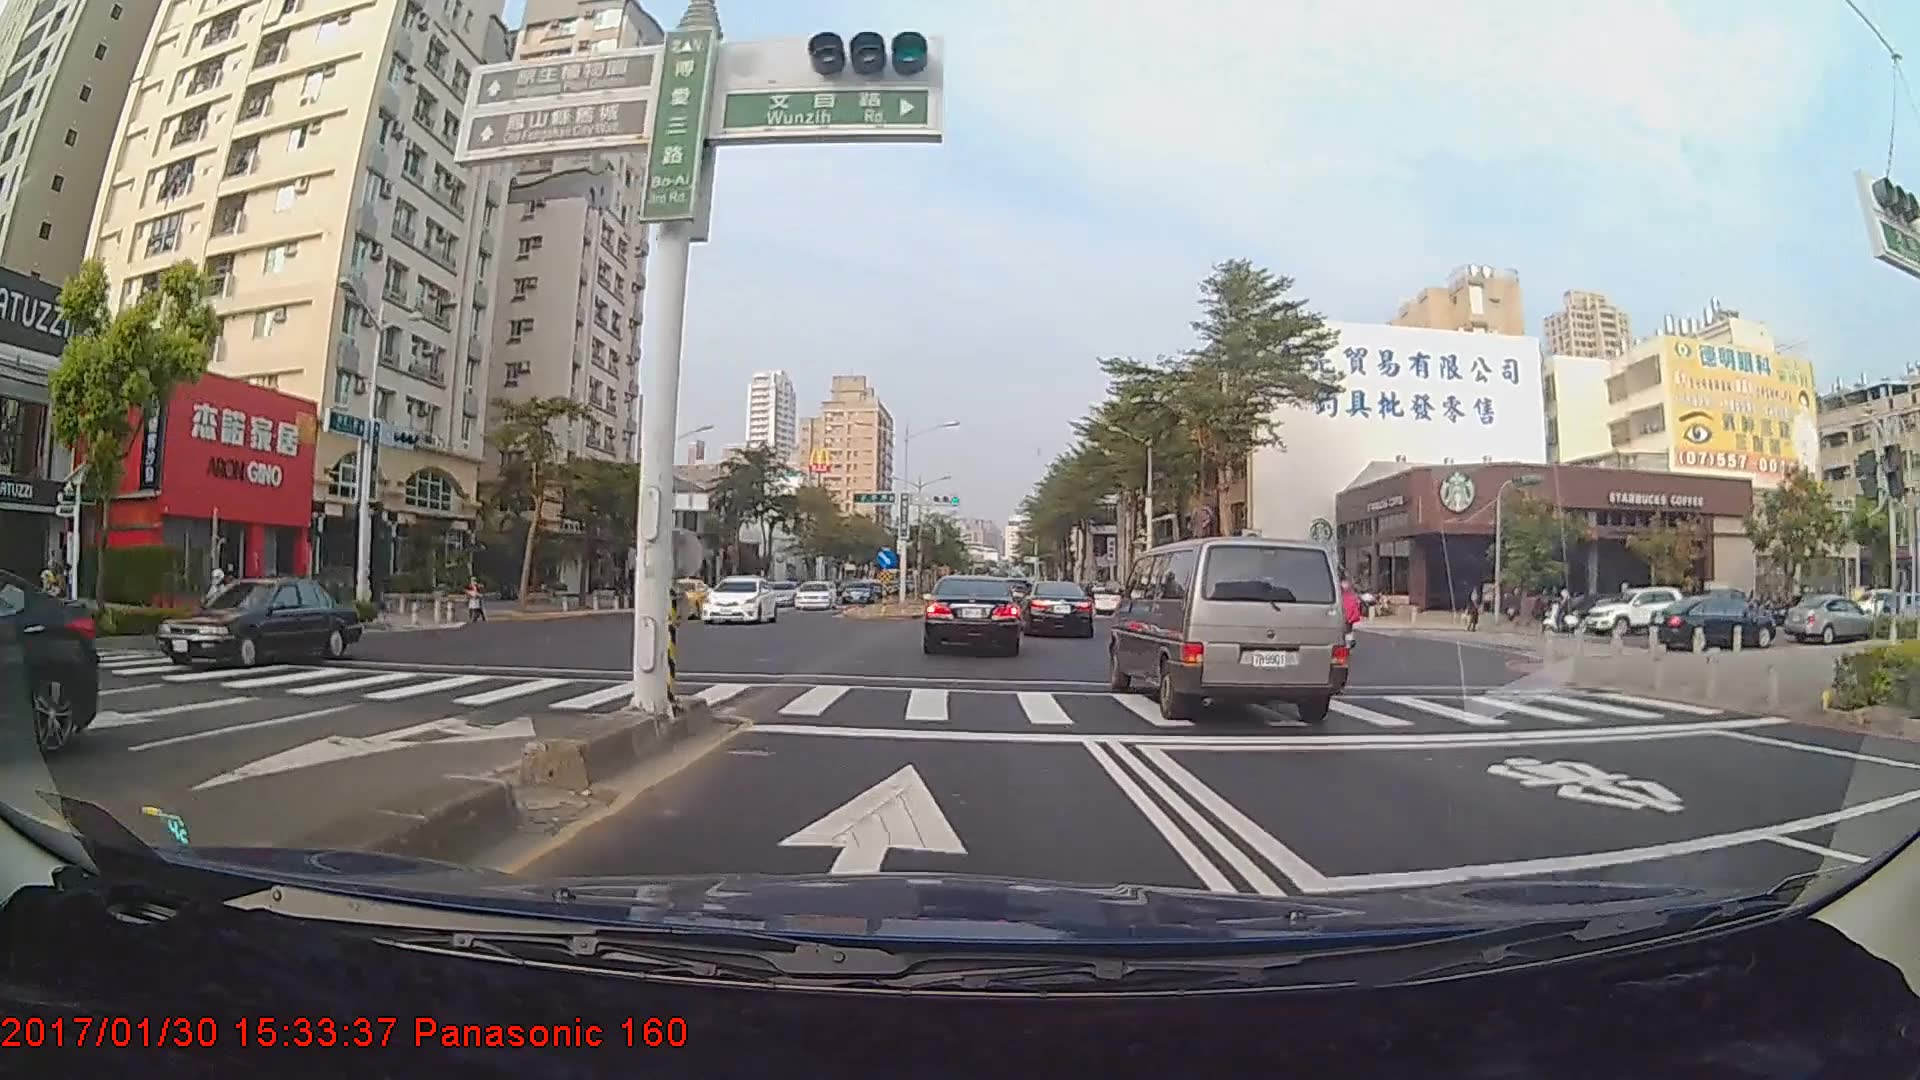rider: (21, 555, 76, 652), (1546, 584, 1590, 637)
vehicle: (1115, 535, 1346, 723), (0, 555, 100, 785), (155, 576, 356, 671), (921, 574, 1023, 656), (1659, 583, 1787, 648), (1783, 594, 1878, 647), (1584, 586, 1684, 636), (1018, 579, 1095, 638), (699, 574, 776, 624), (790, 579, 836, 610), (838, 578, 879, 604)
